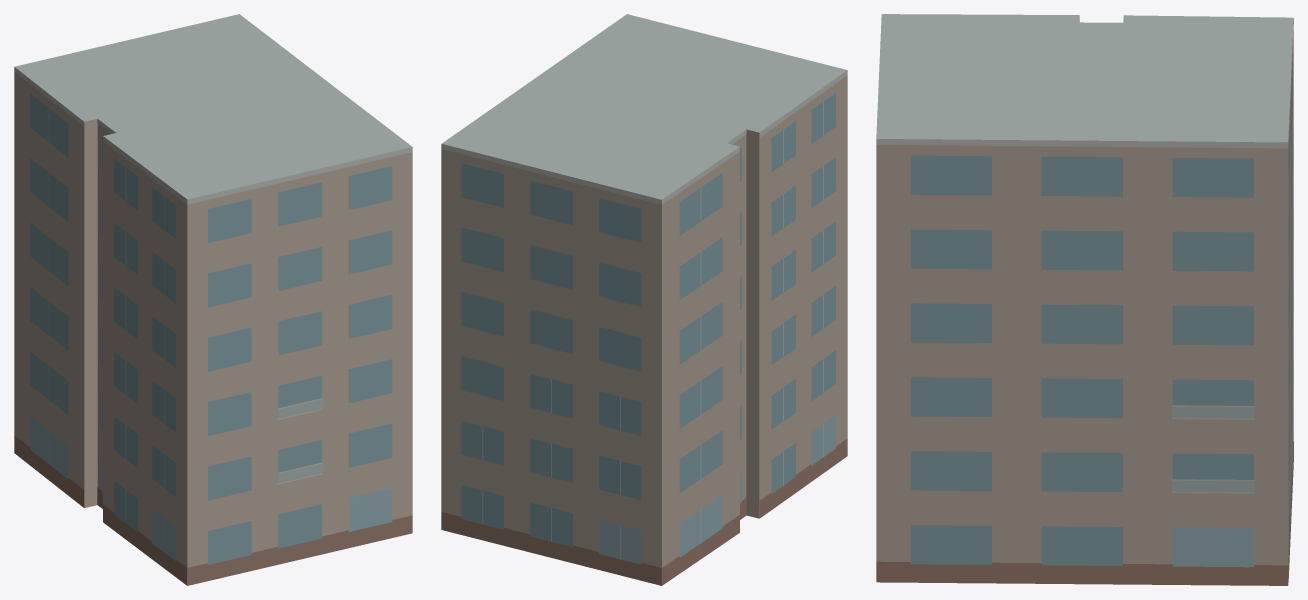
File: survey-upis-32748789.glb
The picture shows the model from 3 angles, left to right: view 1: azimuth 30°, elevation 25°; view 2: azimuth 150°, elevation 25°; view 3: azimuth 270°, elevation 25°; orthographic projection. The views are drawn at different scales.
Parts seen in each view (by area): view 1: survey-upis-32748789.tmp; view 2: survey-upis-32748789.tmp; view 3: survey-upis-32748789.tmp.
Part boxes in pixels (bbox=[...]): survey-upis-32748789.tmp: bbox=[14, 14, 412, 585]; survey-upis-32748789.tmp: bbox=[441, 14, 847, 585]; survey-upis-32748789.tmp: bbox=[876, 14, 1293, 585].
Bounding box in the file's own units: 11.38 × 18.3 × 15.62.
